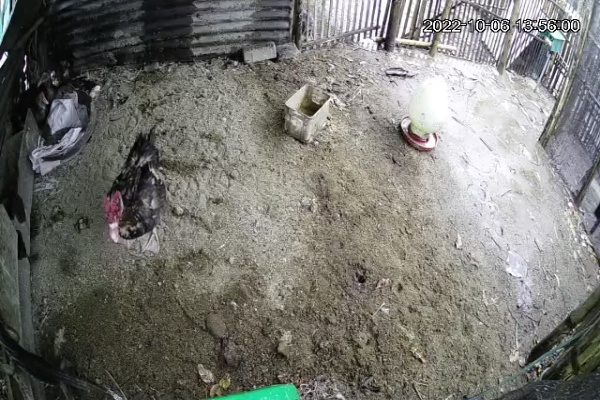Entog: (100, 121, 176, 260)
